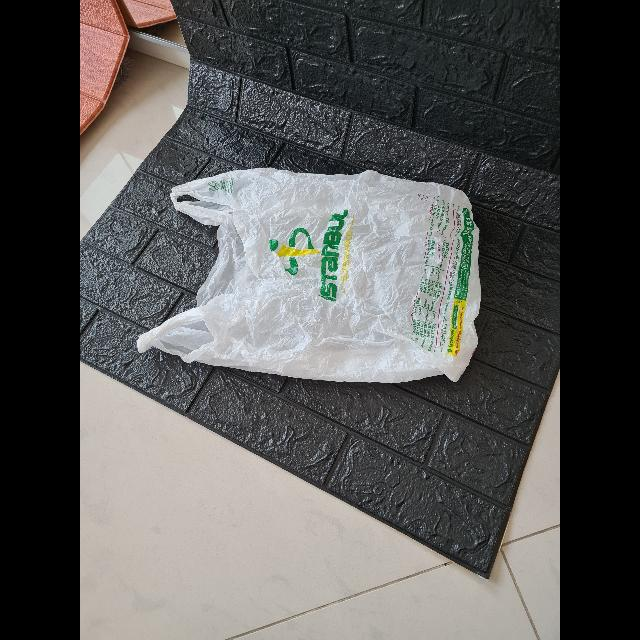plastic_bag: (142, 166, 482, 387)
